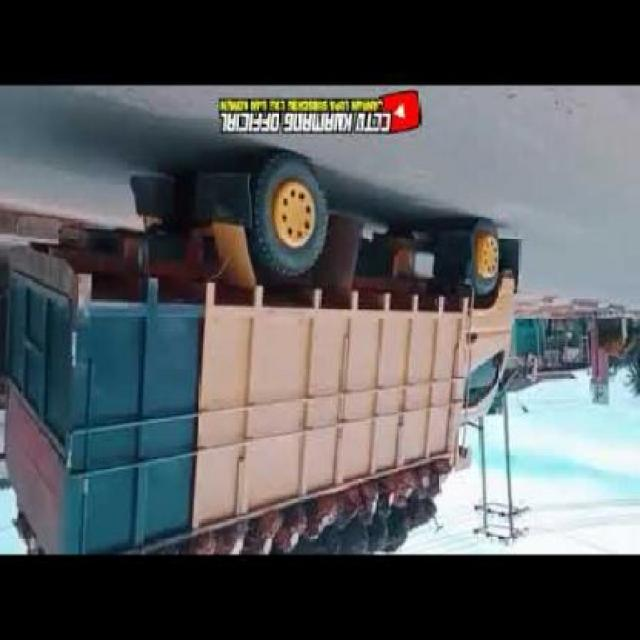truck: (3, 158, 530, 640)
